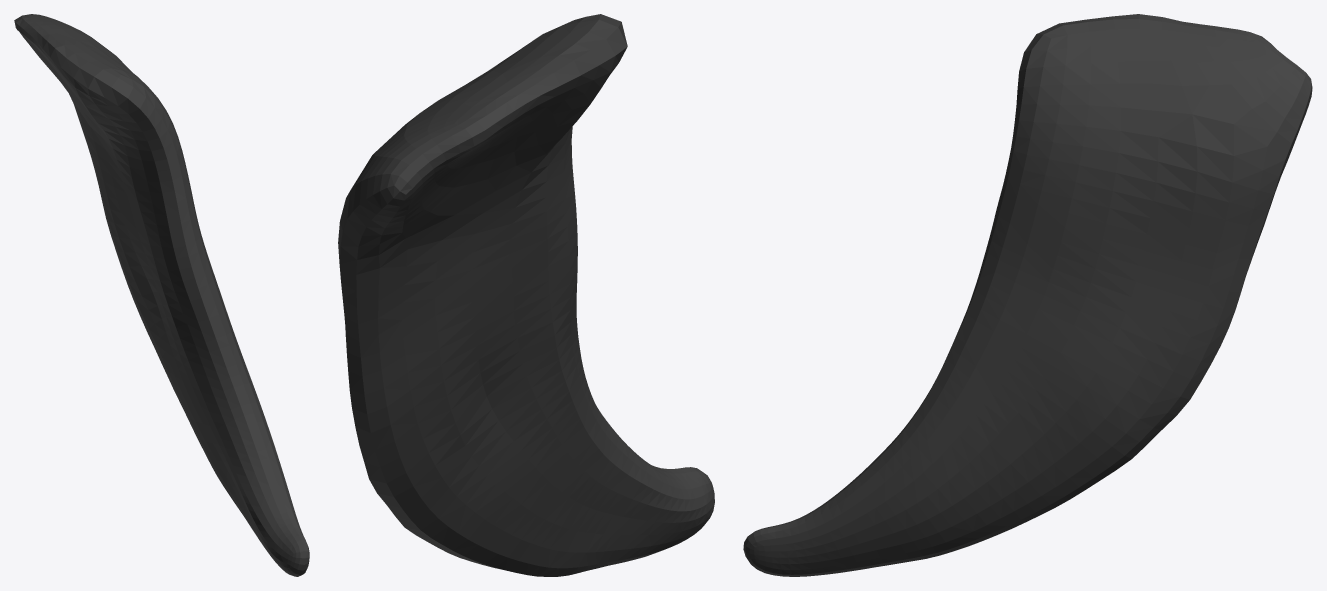
Rendered from Spleen.glb.
The picture shows the model from 3 angles, left to right: view 1: azimuth 30°, elevation 25°; view 2: azimuth 150°, elevation 25°; view 3: azimuth 270°, elevation 25°; orthographic projection. The views are drawn at different scales.
Parts seen in each view (by area): view 1: Spleen; view 2: Spleen; view 3: Spleen.
Boxes of the visible parts, x1,y1,x2,y2 form: Spleen: (14, 14, 309, 576); Spleen: (338, 14, 714, 576); Spleen: (743, 14, 1312, 576).
Size of the model in its own units: 0.2397 by 0.7656 by 0.7703.
1 material, 1 textured.
